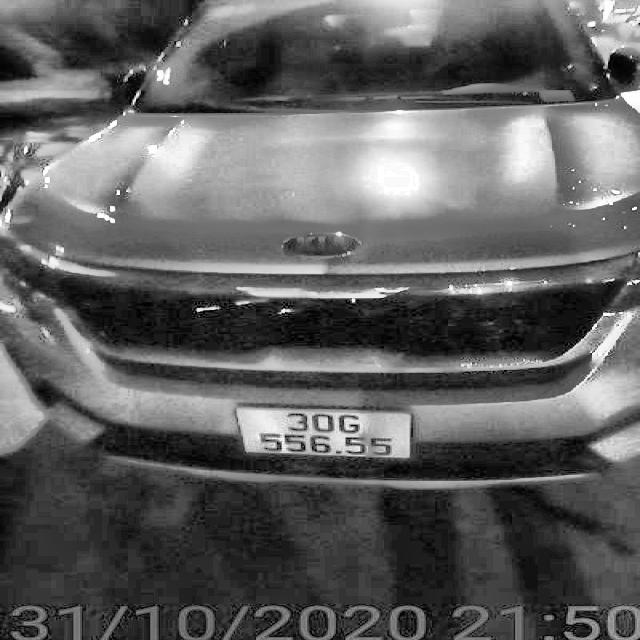plate: (222, 404, 428, 468)
